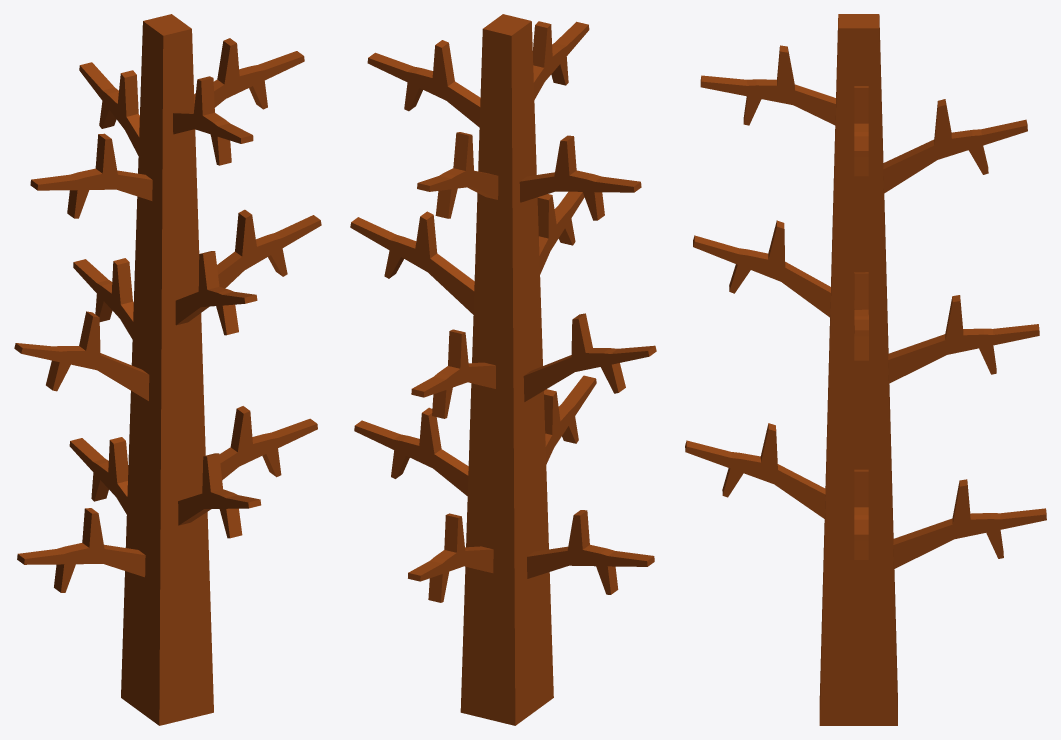
Rendered from tree003.glb.
3 views of the same model, side by side, from view 1: azimuth 30°, elevation 25°; view 2: azimuth 150°, elevation 25°; view 3: azimuth 270°, elevation 25° (orthographic).
Visible parts, largest first — view 1: Cube.002; view 2: Cube.002; view 3: Cube.002.
Part boxes in pixels (x1,y1,x2,y2): Cube.002: [14, 14, 321, 725]; Cube.002: [350, 14, 656, 725]; Cube.002: [685, 14, 1046, 725].
Bounding box in the file's own units: 6.52 × 14.13 × 6.7.
